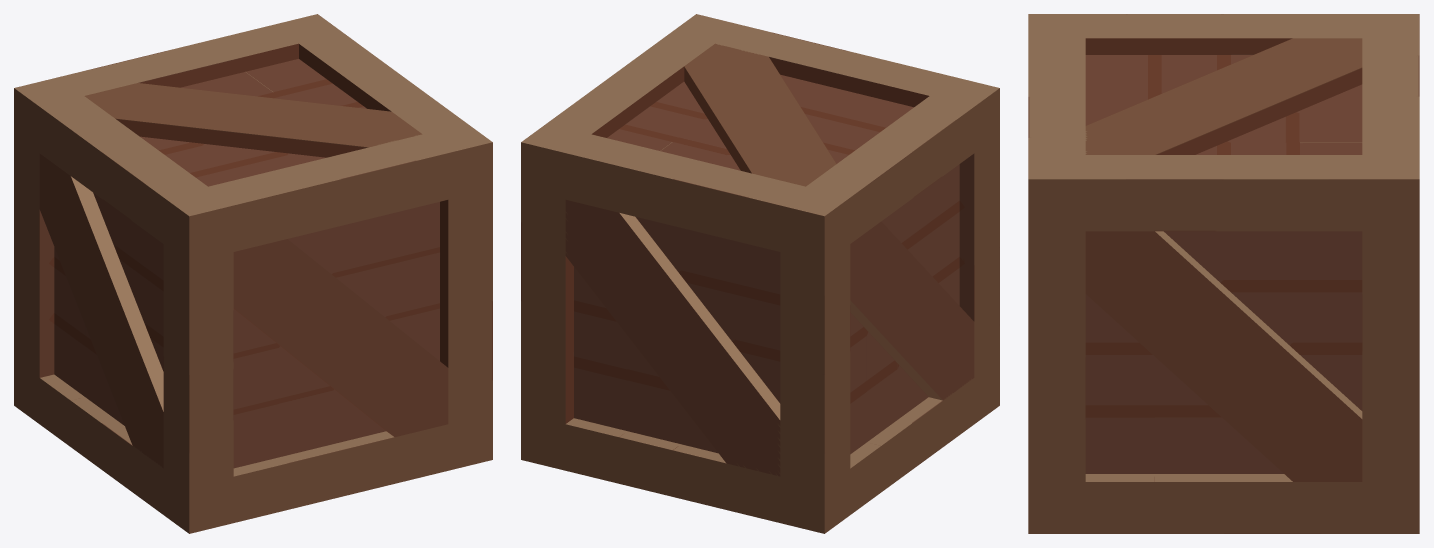
The model's file is WoodenBox.fbx.
3 views of the same model, side by side, from view 1: azimuth 30°, elevation 25°; view 2: azimuth 150°, elevation 25°; view 3: azimuth 270°, elevation 25° (orthographic). The views are drawn at different scales.
Parts seen in each view (by area): view 1: Cube.001; view 2: Cube.001; view 3: Cube.001.
Part boxes in pixels (x1=…): Cube.001: x1=14, y1=14, x2=492, y2=533; Cube.001: x1=521, y1=14, x2=999, y2=533; Cube.001: x1=1028, y1=14, x2=1419, y2=533.
Size of the model in its own units: 100 by 100 by 100.
